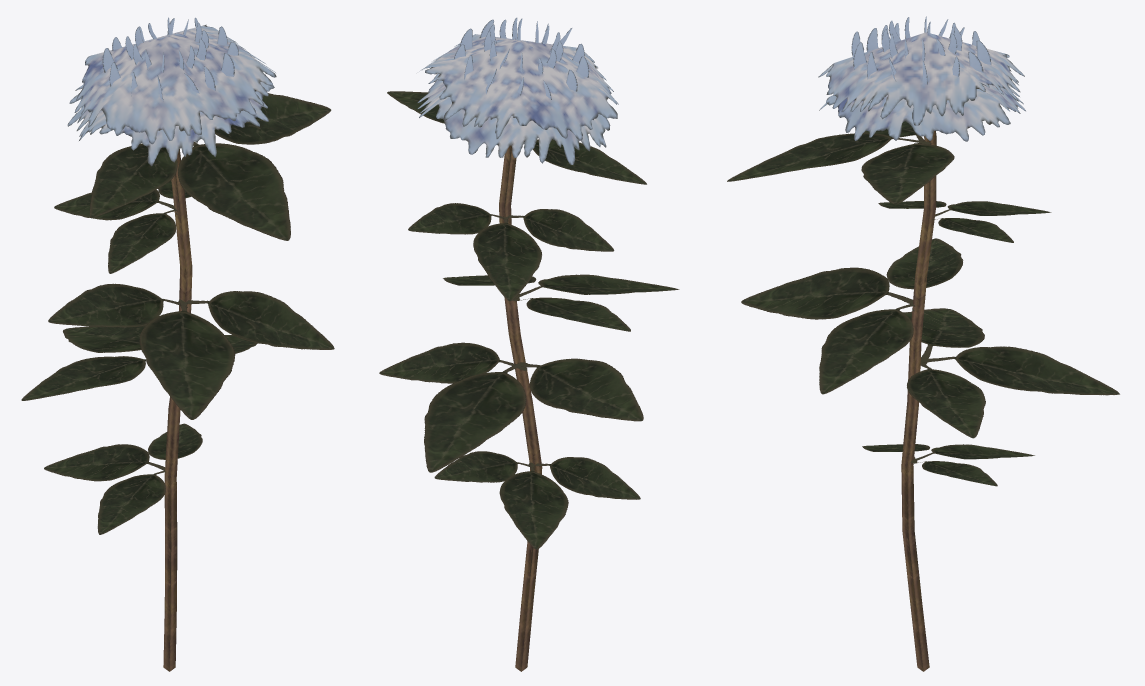
File: SM_flower_03.fbx
3 renders of one model, left to right at view 1: azimuth 30°, elevation 25°; view 2: azimuth 150°, elevation 25°; view 3: azimuth 270°, elevation 25°, orthographic.
Visible parts, largest first — view 1: SM_flower_03; view 2: SM_flower_03; view 3: SM_flower_03.
Part boxes in pixels (x1,y1,x2,y2): SM_flower_03: (21, 17, 334, 671); SM_flower_03: (379, 17, 679, 671); SM_flower_03: (727, 16, 1119, 671).
Size of the model in its own units: 23.66 by 28.31 by 48.68.
